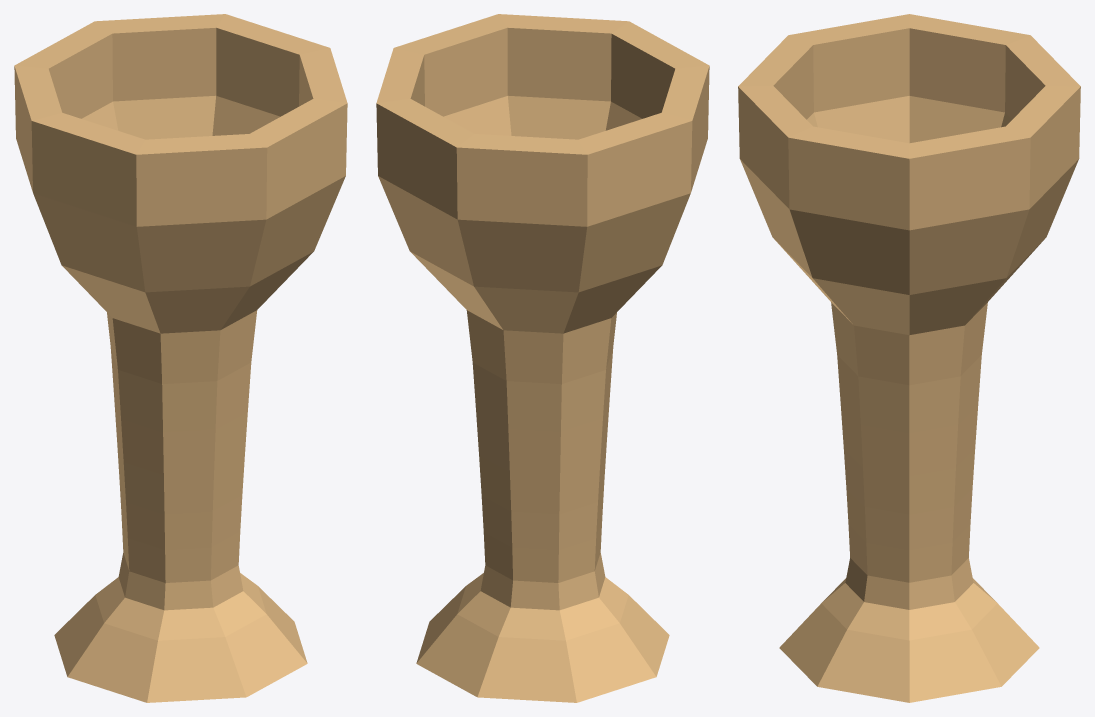
The model's file is Trophy.glb.
3 renders of one model, left to right at view 1: azimuth 30°, elevation 25°; view 2: azimuth 150°, elevation 25°; view 3: azimuth 270°, elevation 25°, orthographic.
Parts seen in each view (by area): view 1: Trophy; view 2: Trophy; view 3: Trophy.
Boxes of the visible parts, x1=… form: Trophy: x1=14, y1=14, x2=347, y2=702; Trophy: x1=376, y1=14, x2=709, y2=702; Trophy: x1=738, y1=14, x2=1080, y2=702.
Size of what is drawn, in the model's own units: 5.52 by 9.99 by 5.52.
